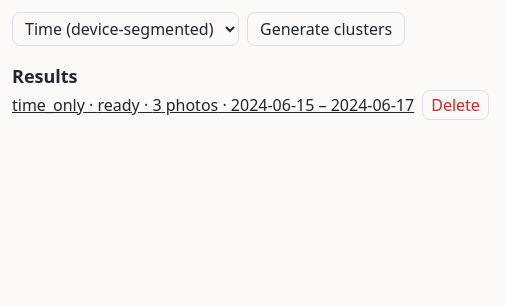
it: ClusterView › falls back to the item id when its photo is not resolved
The width and height of the screenshot is (506, 305).
What coordinates should you click on to do the following:
click the button with test id "result-row"
I would click on:
 (213, 105)
Its box is 12,93 -> 414,117.
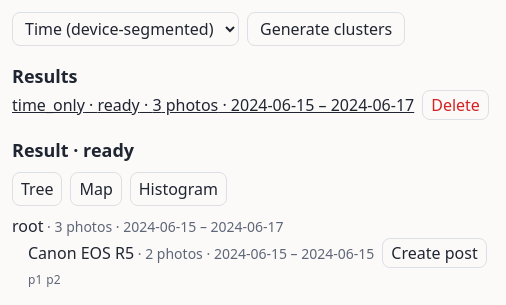
Check: the text "Canon EOS R5" is shown, box 28,242 -> 134,264
Check: the text "p1" is shown, box 28,272 -> 42,288
Check: the text "p2" is shown, box 46,272 -> 61,288
